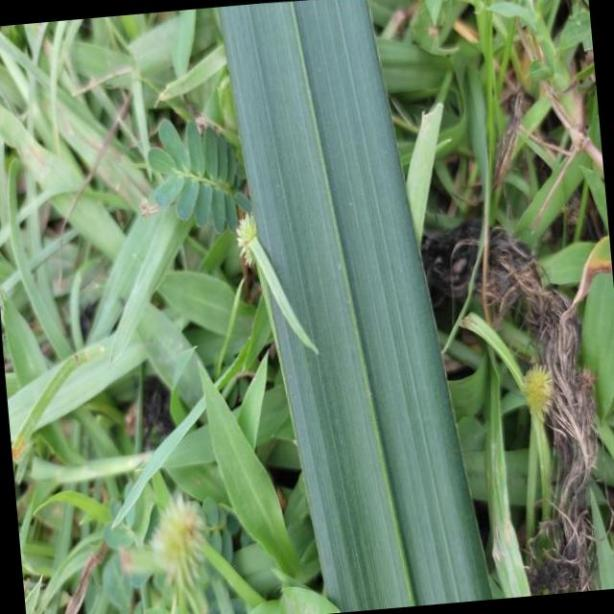Healthy: (216, 1, 494, 614)
